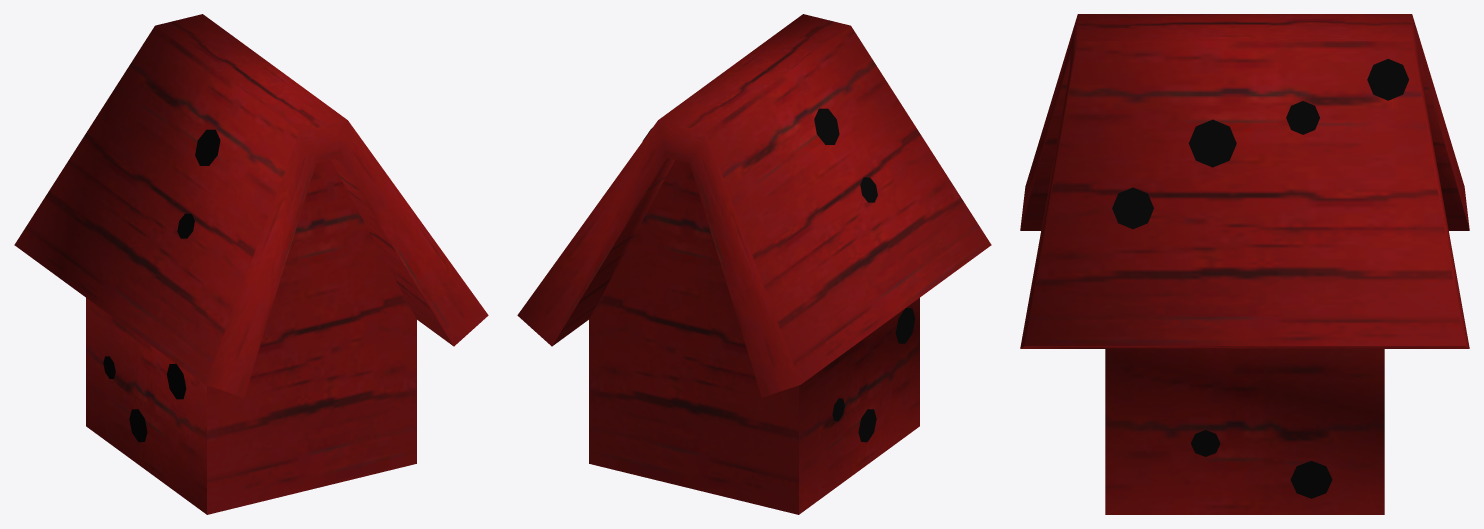
Rendered from casaSnoopy.obj.
3 renders of one model, left to right at view 1: azimuth 30°, elevation 25°; view 2: azimuth 150°, elevation 25°; view 3: azimuth 270°, elevation 25°, orthographic. The views are drawn at different scales.
Visible parts, largest first — view 1: Mesh_0938.rip_doghouse; view 2: Mesh_0938.rip_doghouse; view 3: Mesh_0938.rip_doghouse.
Part boxes in pixels (box(x1,y1,x2,y2)): Mesh_0938.rip_doghouse: box(14, 14, 488, 514); Mesh_0938.rip_doghouse: box(517, 14, 991, 514); Mesh_0938.rip_doghouse: box(1020, 14, 1469, 514).
Size of the model in its own units: 0.4348 by 0.5449 by 0.5181.
